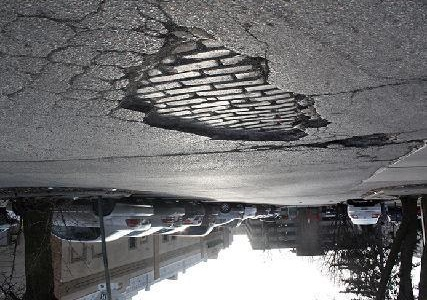pothole: (110, 21, 328, 144), (332, 130, 398, 149)
